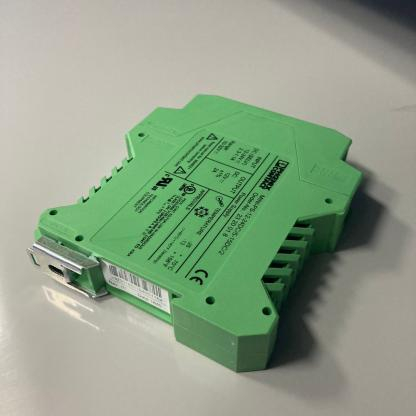SP0000011: (0, 63, 416, 399)
